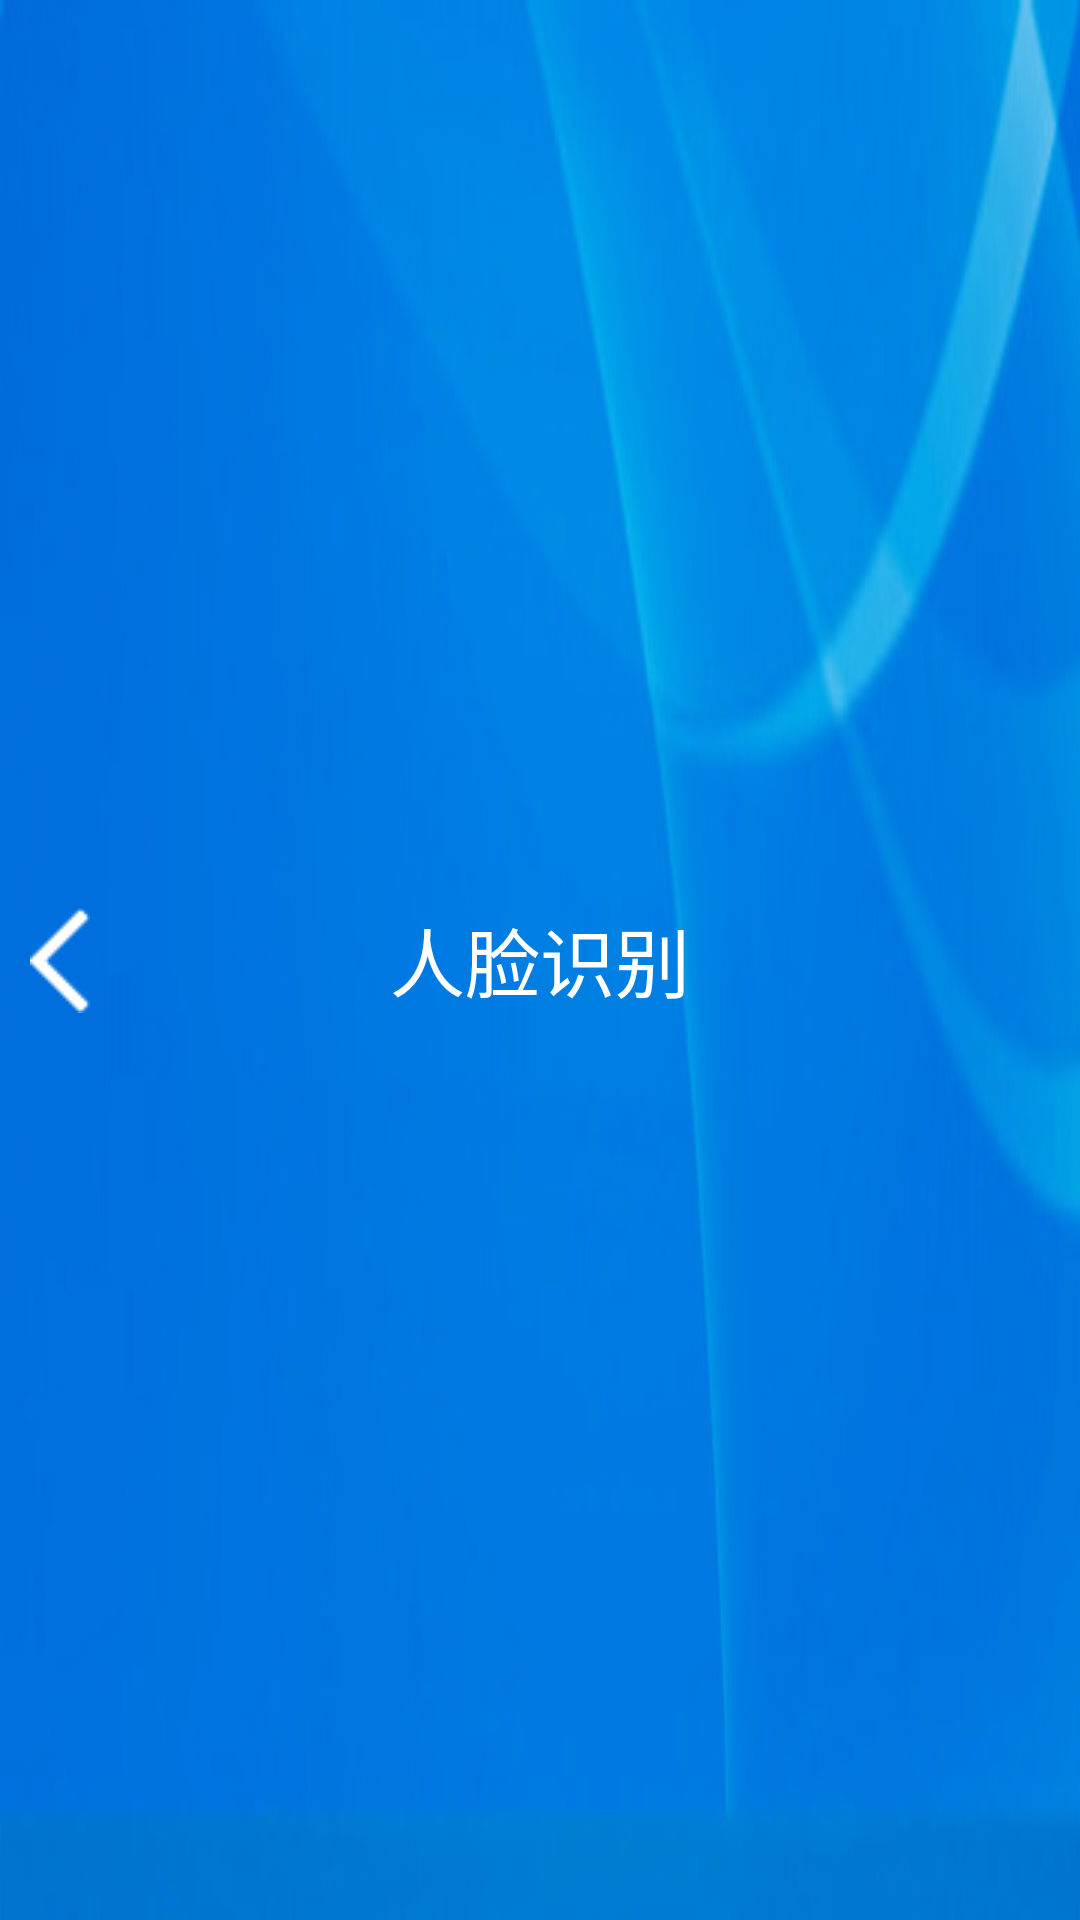

Point at icon controls on the screen. Image size 1080w x 1920h, points as [x,y].
bar back: [60,960]
